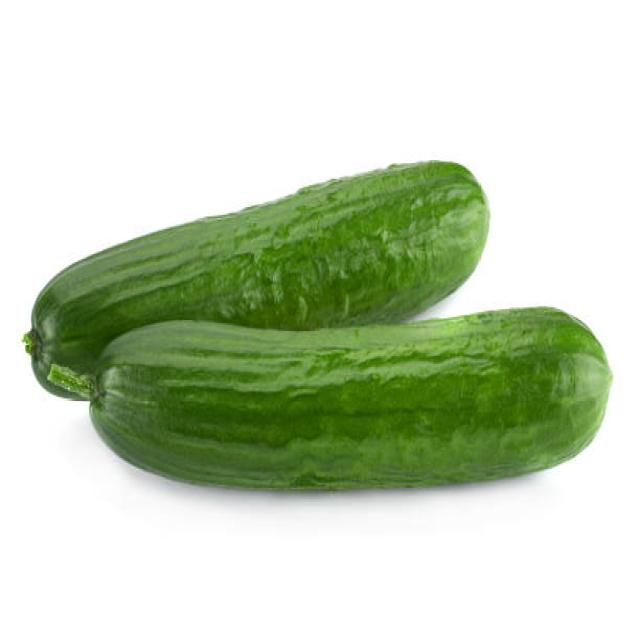cucumber: (32, 158, 490, 400), (89, 306, 613, 487)
